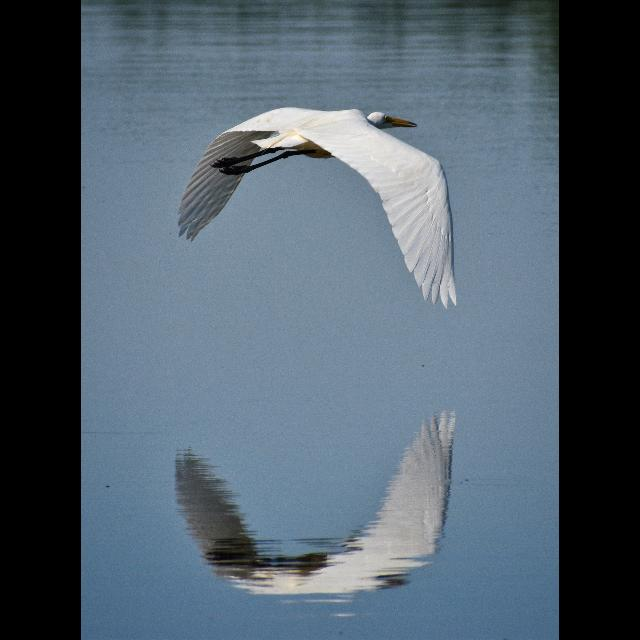egret: (170, 100, 470, 322)
